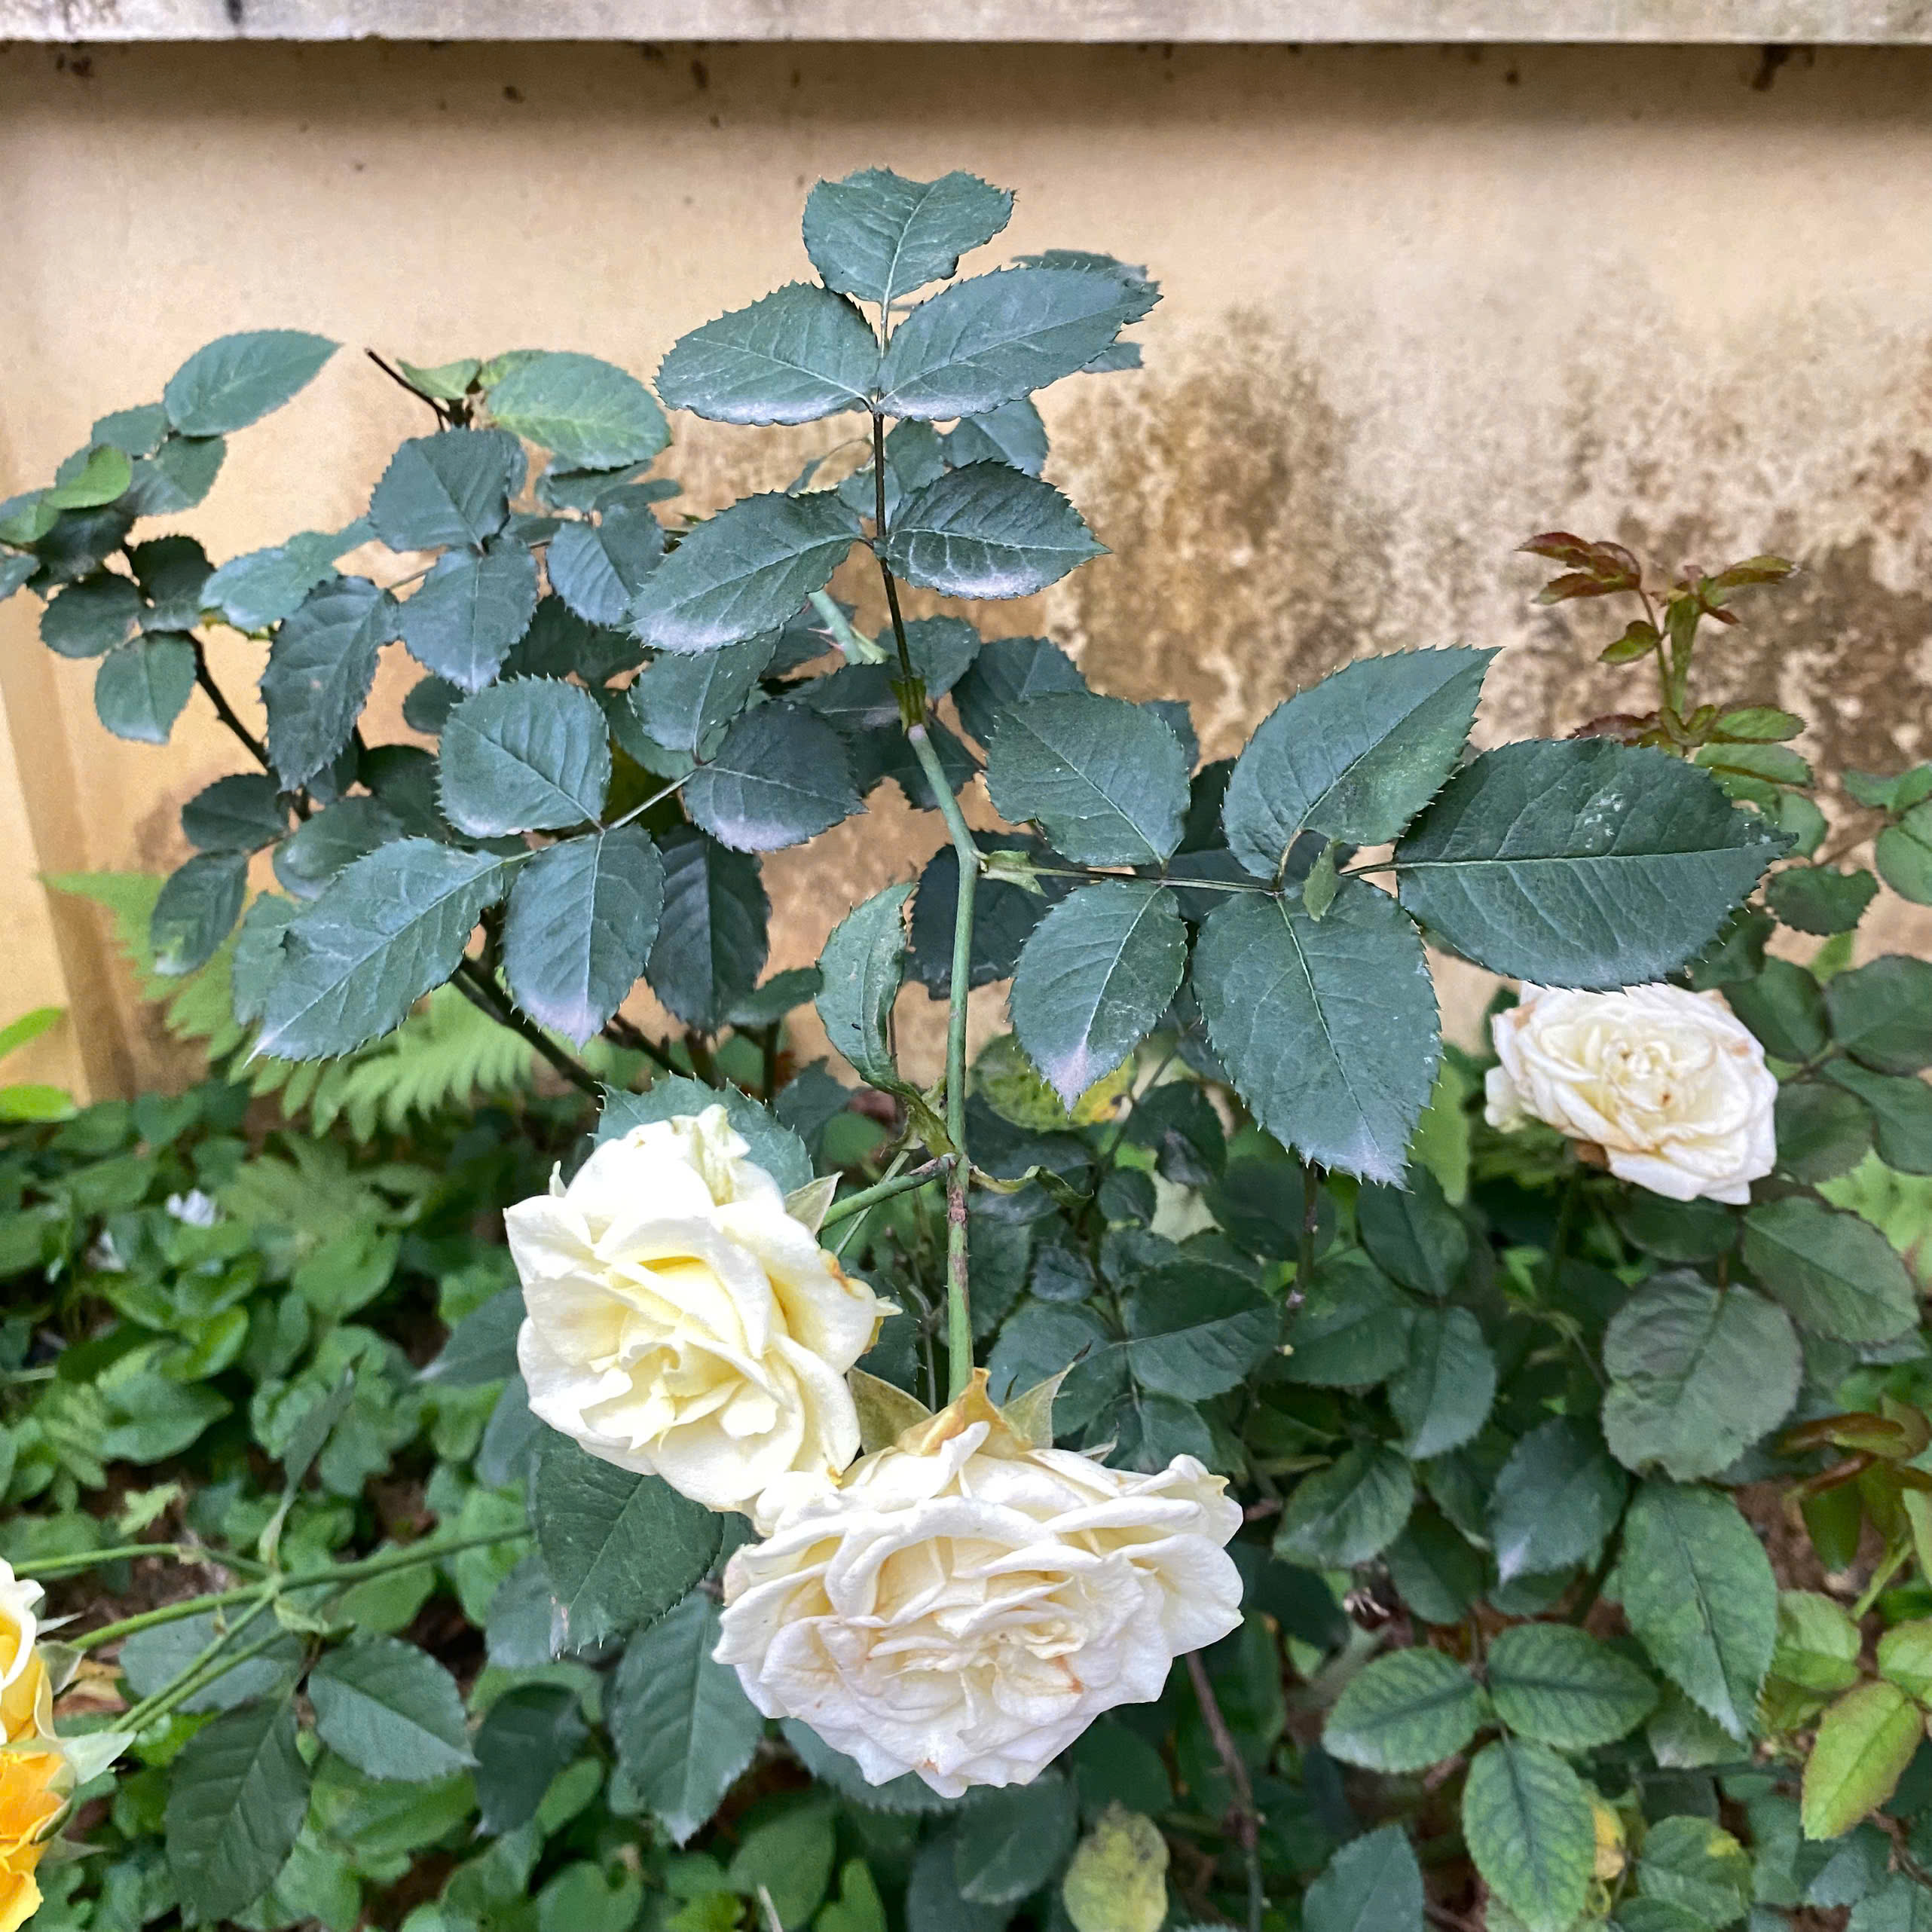hoa_thuoc_duoc: (58, 310, 1861, 1867)
